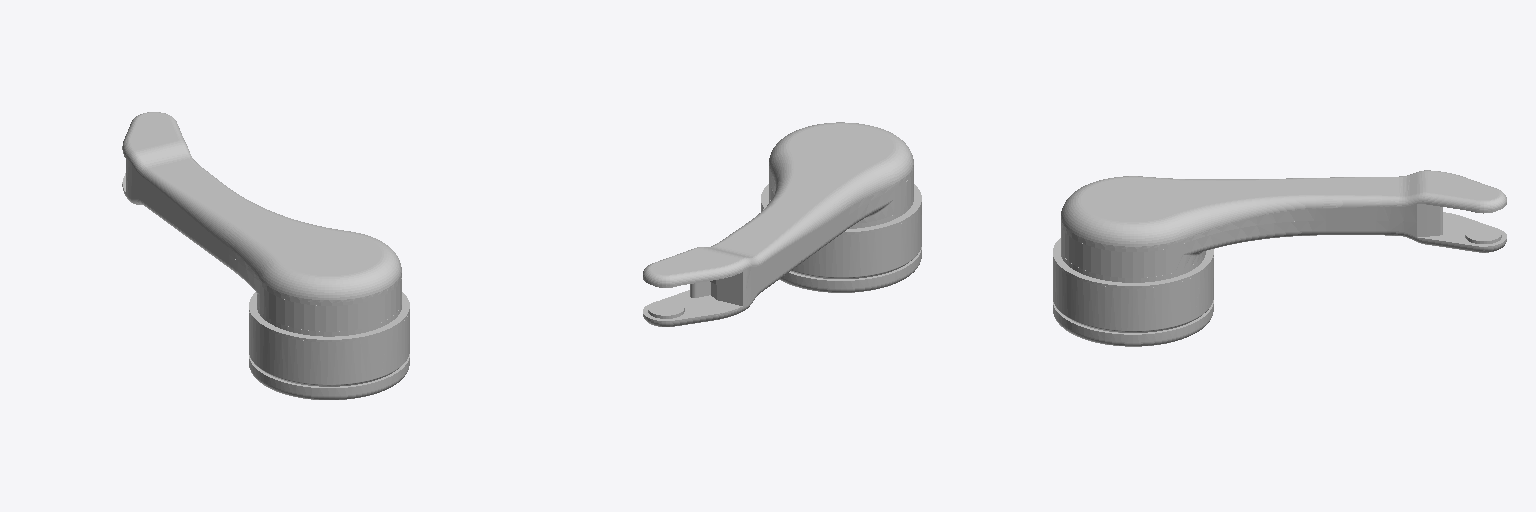
Rendered from thigh.obj.
3 renders of one model, left to right at view 1: azimuth 30°, elevation 25°; view 2: azimuth 150°, elevation 25°; view 3: azimuth 270°, elevation 25°, orthographic.
Visible parts, largest first — view 1: obj1; view 2: obj1; view 3: obj1.
Part boxes in pixels (x1,y1,x2,y2): obj1: (122, 112, 409, 399); obj1: (643, 122, 921, 326); obj1: (1053, 170, 1506, 346).
Bounding box in the file's own units: 0.092 × 0.0783 × 0.2595.